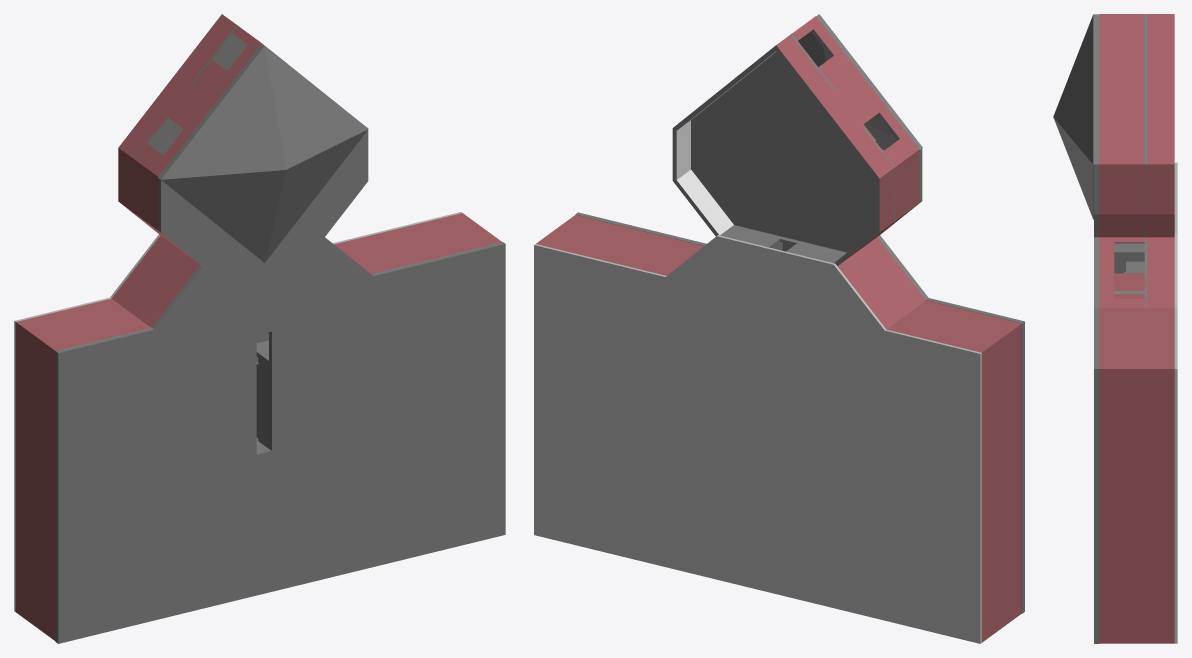
File: WE YMCA5.obj
3 views of the same model, side by side, from view 1: azimuth 30°, elevation 25°; view 2: azimuth 150°, elevation 25°; view 3: azimuth 270°, elevation 25° (orthographic). The views are drawn at different scales.
Parts seen in each view (by area): view 1: Steel Truss - Insulation on Metal Deck - EPDM, Steel Truss - Insulation on Metal Deck - EPDM:1, Steel Truss - Insulation on Metal Deck - EPDM:2, CMU Assembly_01, CMU Assembly_01:4, CMU Assembly_01:9, CMU Assembly_01:7, CMU Assembly_04_Square Tiles, CMU Assembly_01:5, Wood Joist 10" - Ceramic Tile, Generic - 12", Generic - 8":6; view 2: Generic - 12", Wood Joist 10" - Ceramic Tile, CMU Assembly_01, CMU Assembly_01:4, CMU Assembly_01:9, CMU Assembly_01:7, CMU Assembly_04_Square Tiles, CMU Assembly_01:5, Steel Truss - Insulation on Metal Deck - EPDM, Steel Truss - Insulation on Metal Deck - EPDM:1, CMU Assembly_01:10, CMU Assembly_01:3 (+3 smaller); view 3: CMU Assembly_01:2, CMU Assembly_01:8, Steel Truss - Insulation on Metal Deck - EPDM:1, CMU Assembly_01:9, CMU Assembly_01:3, Exterior - Brick on Mtl. Stud, CMU Assembly_01:10, Steel Truss - Insulation on Metal Deck - EPDM, Generic - 12", Wood Joist 10" - Ceramic Tile, Steel Truss - Insulation on Metal Deck - EPDM:2, CMU Assembly_01:1 (+4 smaller).
Part boxes in pixels (box(x1,y1,x2,y2)): Steel Truss - Insulation on Metal Deck - EPDM: box(55, 242, 505, 643); Steel Truss - Insulation on Metal Deck - EPDM:1: box(158, 43, 368, 262); Steel Truss - Insulation on Metal Deck - EPDM:2: box(152, 126, 373, 329); CMU Assembly_01: box(16, 321, 58, 640); CMU Assembly_01:4: box(118, 14, 264, 182); CMU Assembly_01:9: box(334, 214, 497, 273); CMU Assembly_01:7: box(111, 235, 200, 327); CMU Assembly_04_Square Tiles: box(20, 298, 150, 349); CMU Assembly_01:5: box(118, 154, 159, 231); Wood Joist 10" - Ceramic Tile: box(133, 24, 268, 438); Generic - 12": box(14, 212, 461, 611); Generic - 8":6: box(256, 350, 268, 448); Generic - 12": box(534, 235, 981, 643); Wood Joist 10" - Ceramic Tile: box(691, 33, 895, 254); CMU Assembly_01: box(978, 323, 1021, 642); CMU Assembly_01:4: box(773, 16, 919, 184); CMU Assembly_01:9: box(540, 216, 703, 275); CMU Assembly_01:7: box(837, 237, 925, 329); CMU Assembly_04_Square Tiles: box(886, 300, 1017, 351); CMU Assembly_01:5: box(875, 156, 919, 234); Steel Truss - Insulation on Metal Deck - EPDM: box(575, 212, 1024, 613); Steel Truss - Insulation on Metal Deck - EPDM:1: box(798, 14, 922, 150); CMU Assembly_01:10: box(672, 170, 733, 236); CMU Assembly_01:3: box(672, 120, 690, 179); CMU Assembly_01:2: box(1099, 367, 1174, 639); CMU Assembly_01:8: box(1099, 18, 1174, 158); Steel Truss - Insulation on Metal Deck - EPDM:1: box(1053, 14, 1099, 219); CMU Assembly_01:9: box(1099, 273, 1174, 366); CMU Assembly_01:3: box(1099, 158, 1174, 208); Exterior - Brick on Mtl. Stud: box(1099, 237, 1174, 308); CMU Assembly_01:10: box(1099, 208, 1174, 237); Steel Truss - Insulation on Metal Deck - EPDM: box(1094, 307, 1099, 643); Generic - 12": box(1174, 162, 1177, 643); Wood Joist 10" - Ceramic Tile: box(1144, 14, 1147, 307); Steel Truss - Insulation on Metal Deck - EPDM:2: box(1094, 164, 1099, 307); CMU Assembly_01:1: box(1099, 639, 1174, 643).
Size of the model in its own units: 162 by 190 by 41.3.
